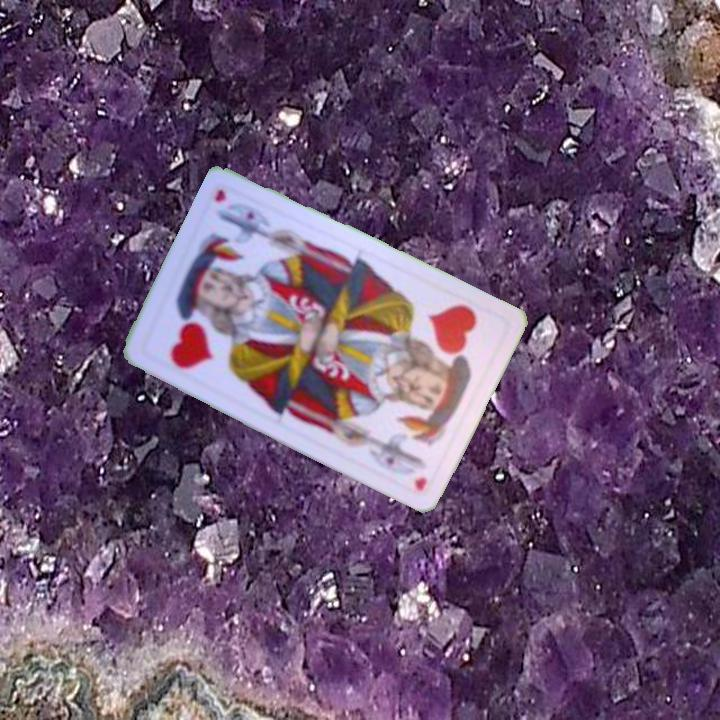h_j.png: (136, 265, 256, 390), (390, 285, 509, 410)
